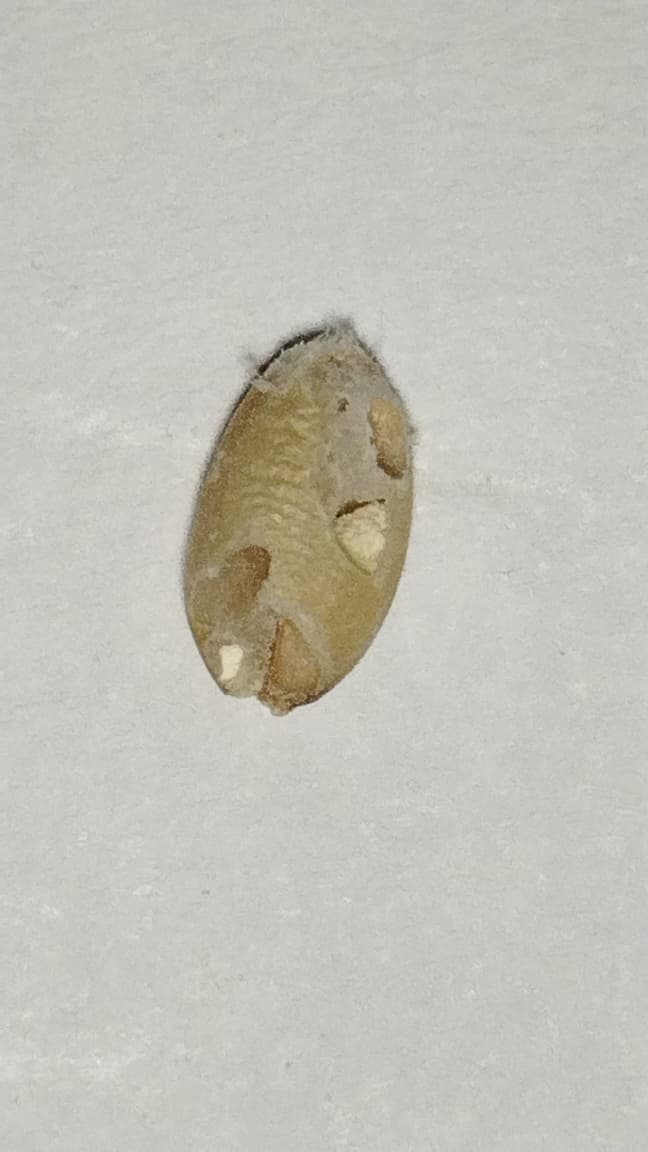damage: (185, 318, 414, 712)
insectdamage: (314, 349, 420, 579), (187, 541, 326, 715)
